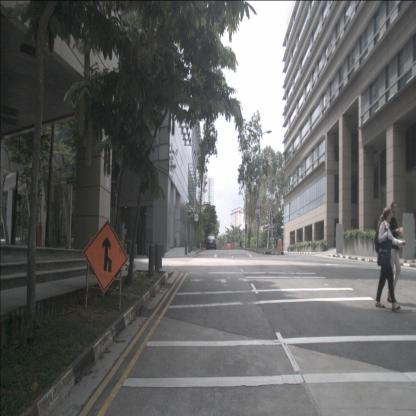human-pedestrian-adult: (373, 206, 406, 312), (387, 200, 403, 304), (239, 237, 243, 248)
vehicle-car: (206, 234, 216, 250)
